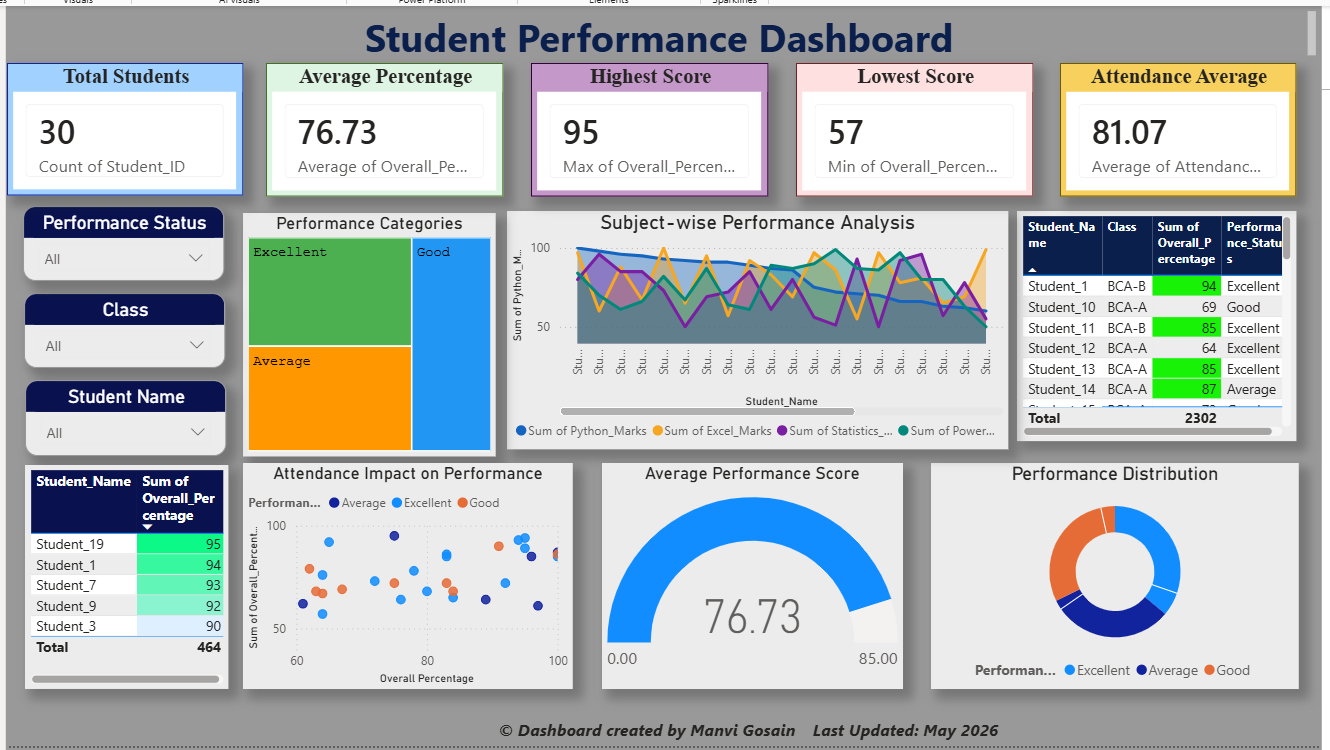

The dashboard page shown, as its layout file describes it:
{"tool":"powerbi","page":{"name":"Dashboard","canvas":[1280,720],"ordinal":0},"visuals":[{"type":"donutChart","title":"Performance Distribution","fields":{"Y":["Avg(Student_Dataset.Overall_Percentage)","CountNonNull(Student_Dataset.Student_ID)"],"Category":["Student_Dataset.Performance_Status"]},"box":[900.4,444.8,358.2,220],"z":0},{"type":"tableEx","fields":{"Values":["Student_Dataset.Student_Name","Student_Dataset.Class","Sum(Student_Dataset.Overall_Percentage)","Student_Dataset.Performance_Status"]},"box":[984,200,272,224],"z":1000},{"type":"areaChart","title":"Subject-wise Performance Analysis","fields":{"Category":["Student_Dataset.Student_Name"],"Y":["Sum(Student_Dataset.Python_Marks)","Sum(Student_Dataset.Excel_Marks)","Sum(Student_Dataset.Statistics_Marks)","Sum(Student_Dataset.PowerBI_Marks)"]},"box":[488,200,488,232],"z":2000},{"type":"textbox","box":[0,0,1280,56.5],"z":3000},{"type":"treemap","title":"Performance Categories","fields":{"Group":["Student_Dataset.Performance_Status"],"Values":["Avg(Student_Dataset.Overall_Percentage)"]},"box":[230.7,201.5,246.3,236.5],"z":4000},{"type":"slicer","title":"Class","fields":{"Values":["Student_Dataset.Class"]},"box":[17.5,279.4,195.7,73],"z":5000},{"type":"slicer","title":"Performance Status","fields":{"Values":["Student_Dataset.Performance_Status"]},"box":[16.5,194.7,195.7,73],"z":6000},{"type":"cardVisual","title":"Average Percentage","fields":{"Data":["Avg(Student_Dataset.Overall_Percentage)"]},"box":[253.1,55.5,230.7,130.4],"z":7000},{"type":"cardVisual","title":"Attendance Average","fields":{"Data":["Avg(Student_Dataset.Attendance_Percentage)"]},"box":[1025.9,55.5,229.7,130.4],"z":8000},{"type":"cardVisual","title":"Total Students","fields":{"Data":["CountNonNull(Student_Dataset.Student_ID)"]},"box":[1,55.5,229.7,129.5],"z":9000},{"type":"cardVisual","title":"Lowest Score","fields":{"Data":["Min(Student_Dataset.Overall_Percentage)"]},"box":[769,55.5,230.7,130.4],"z":10000},{"type":"cardVisual","title":"Highest Score","fields":{"Data":["Max(Student_Dataset.Overall_Percentage)"]},"box":[511,55.5,230.7,130.4],"z":11000},{"type":"slicer","title":"Student Name","fields":{"Values":["Student_Dataset.Student_Name"]},"box":[18.5,364,195.7,74],"z":12000},{"type":"tableEx","fields":{"Values":["Student_Dataset.Student_Name","Sum(Student_Dataset.Overall_Percentage)"]},"box":[18.5,446.8,197.6,218],"z":13000},{"type":"scatterChart","title":"Attendance Impact on Performance","fields":{"Category":["Student_Dataset.Student_ID"],"X":["Sum(Student_Dataset.Attendance_Percentage)"],"Y":["Sum(Student_Dataset.Overall_Percentage)"],"Series":["Student_Dataset.Performance_Status"]},"box":[230.7,444.8,321.2,220],"z":14000},{"type":"gauge","title":"Average Performance Score","fields":{"Y":["Avg(Student_Dataset.Overall_Percentage)"]},"box":[580.1,444.8,293,220],"z":15000},{"type":"textbox","box":[776,688,200,32],"z":16000},{"type":"textbox","box":[472,688,304,32],"z":17000}]}

Visuals, with their boxes in screenshot pixels (x1, y1, x2, y2):
"Performance Distribution" donutChart: (926,459,1293,685)
tableEx - Student_Dataset.Student_Name x Student_Dataset.Class: (1012,208,1290,438)
"Subject-wise Performance Analysis" areaChart: (504,208,1004,446)
textbox: (3,3,1315,61)
"Performance Categories" treemap: (240,210,492,452)
"Class" slicer: (21,290,222,365)
"Performance Status" slicer: (20,203,221,278)
"Average Percentage" cardVisual: (263,60,499,194)
"Attendance Average" cardVisual: (1055,60,1290,194)
"Total Students" cardVisual: (4,60,240,193)
"Lowest Score" cardVisual: (791,60,1028,194)
"Highest Score" cardVisual: (527,60,763,194)
"Student Name" slicer: (22,376,223,452)
tableEx - Student_Dataset.Student_Name x Sum(Student_Dataset.Overall_Percentage): (22,461,225,685)
"Attendance Impact on Performance" scatterChart: (240,459,569,685)
"Average Performance Score" gauge: (598,459,898,685)
textbox: (799,708,1004,741)
textbox: (487,708,799,741)
